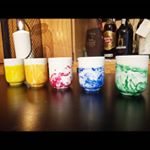cups: (113, 52, 150, 98), (74, 55, 107, 97), (48, 55, 75, 93), (24, 56, 48, 94), (1, 56, 25, 87)
